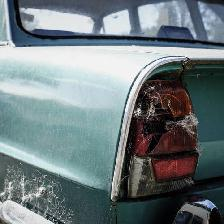broken_light: (0, 8, 222, 221)
